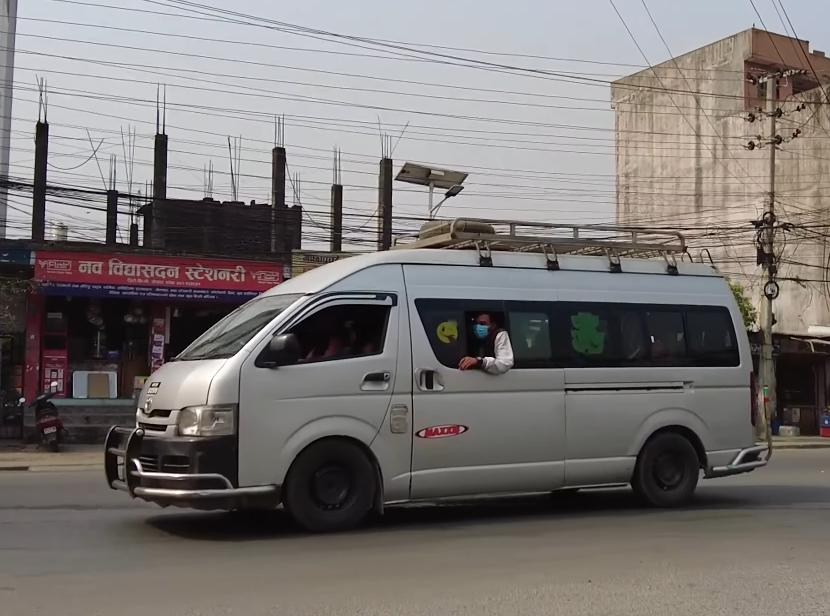micro_bus: (99, 201, 775, 543)
